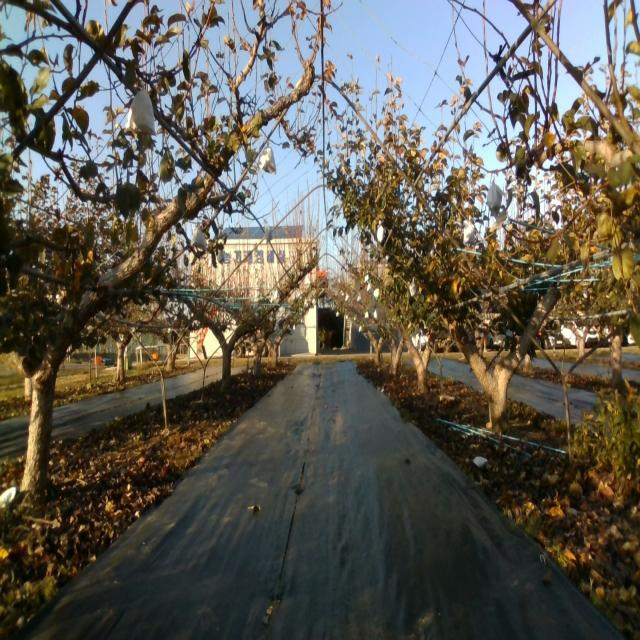pearbags: (127, 89, 157, 135), (259, 143, 277, 176), (487, 182, 503, 218), (190, 228, 208, 253), (463, 221, 475, 247)
